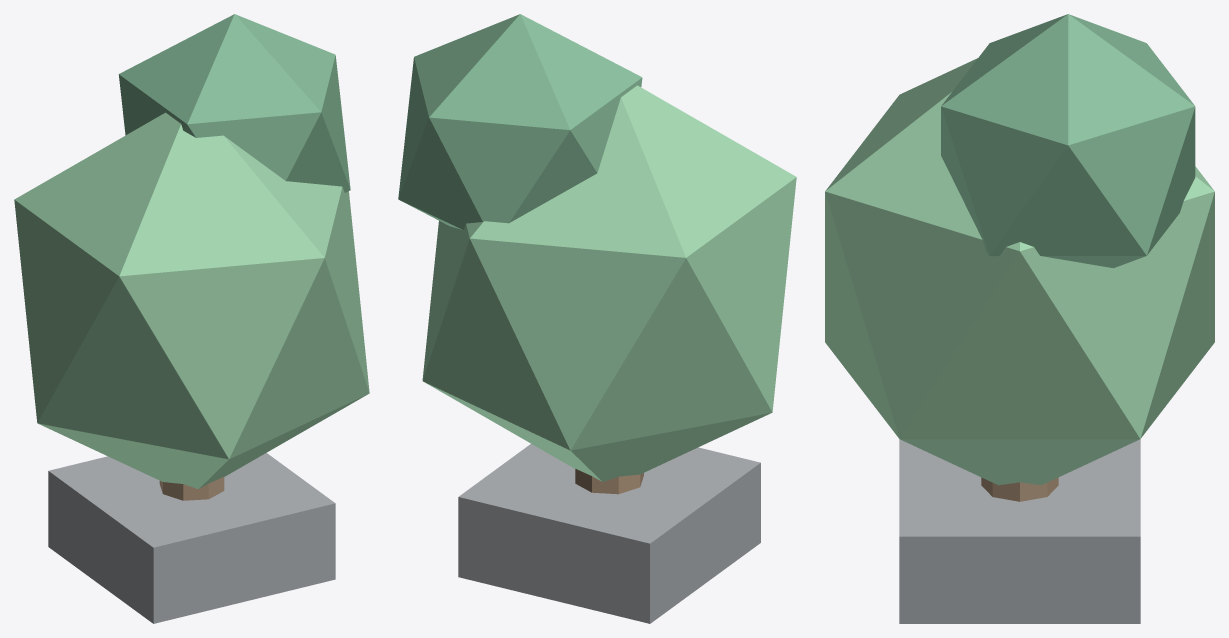
Rendered from topiary.glb.
3 views of the same model, side by side, from view 1: azimuth 30°, elevation 25°; view 2: azimuth 150°, elevation 25°; view 3: azimuth 270°, elevation 25° (orthographic). The views are drawn at different scales.
Visible parts, largest first — view 1: topiary; view 2: topiary; view 3: topiary.
Boxes of the visible parts, x1=… form: topiary: x1=14, y1=14, x2=369, y2=623; topiary: x1=398, y1=14, x2=796, y2=623; topiary: x1=825, y1=14, x2=1214, y2=623.
Size of the model in its own units: 1.75 by 2.72 by 1.62.
